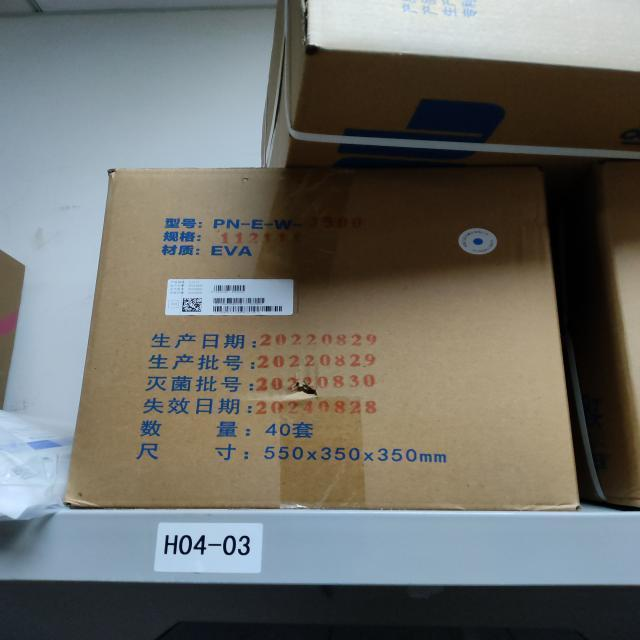box: (64, 164, 574, 517), (261, 0, 640, 169), (567, 169, 640, 510)
